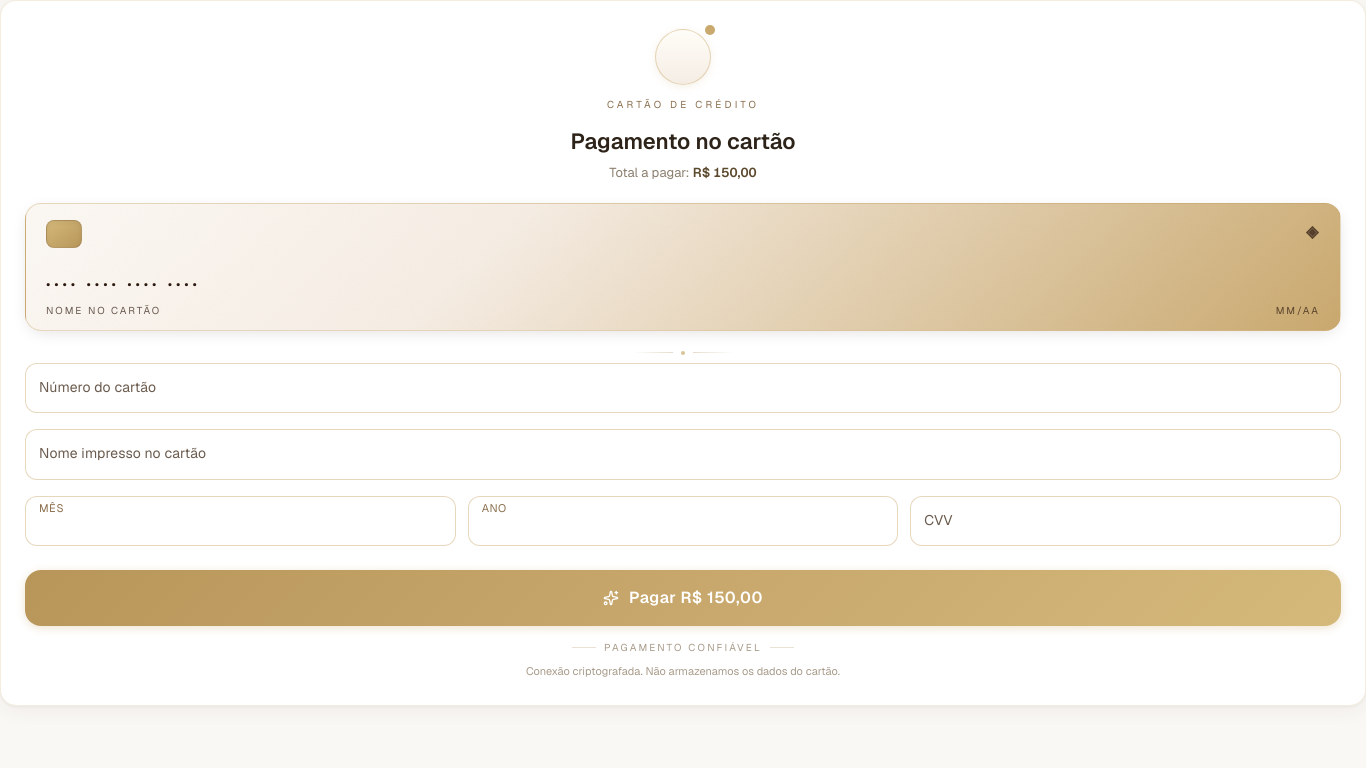
Test: PublicCardCharge › shows declined error when API responds 402
This screenshot has width=1366, height=768.
Step 1. Type "4111111111111111" into the field labelled "Número do cartão" → (683, 388), box [25,363,1341,413]
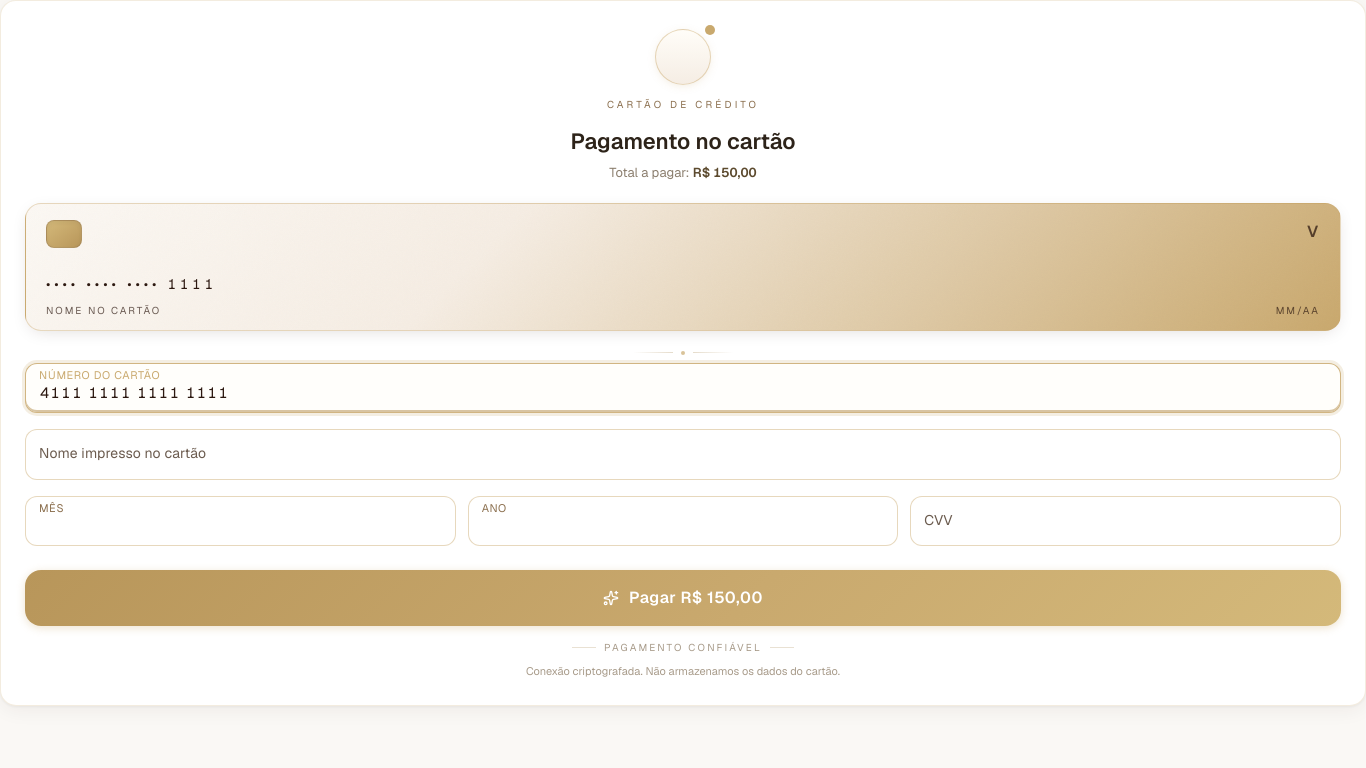
Step 2. Type "MARIA SILVA" into the field labelled "Nome impresso no cartão" → (683, 454), box [25,429,1341,480]
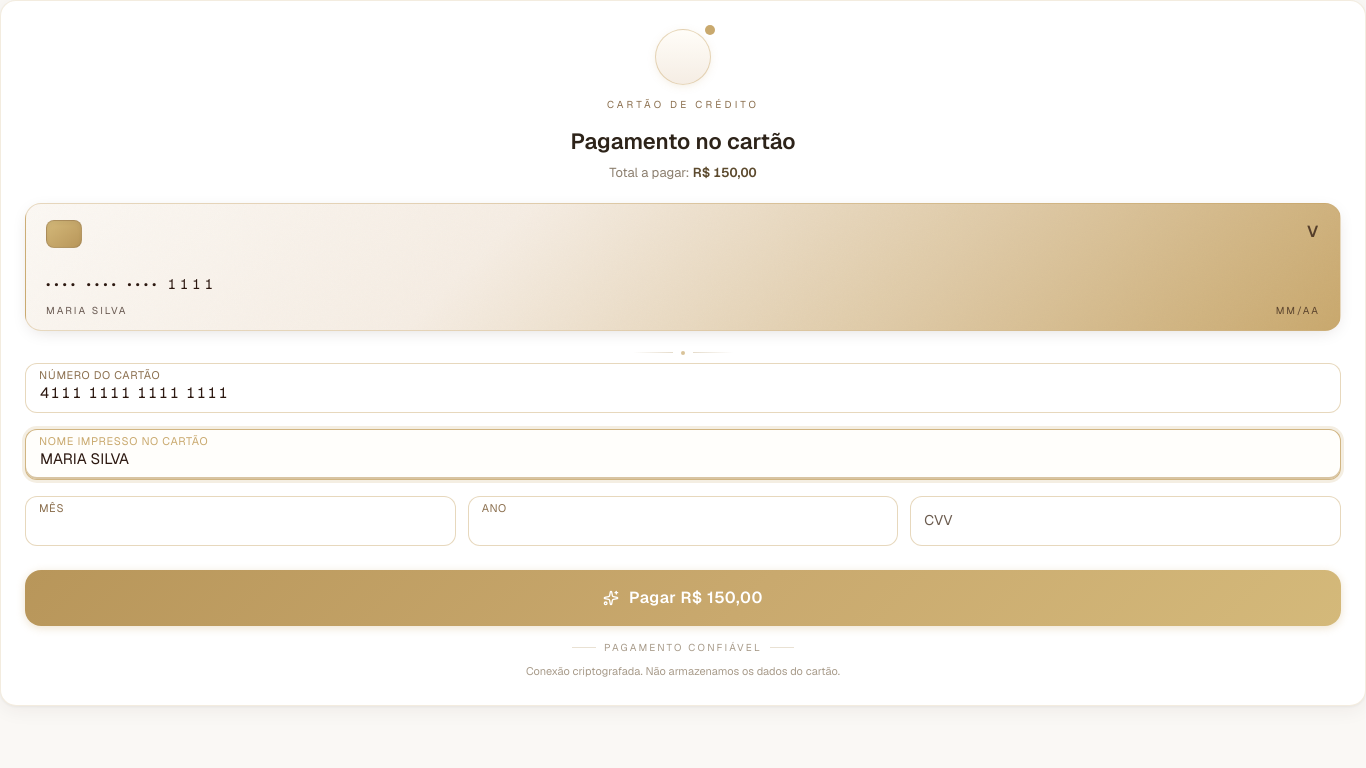
Step 3. Select "12" in the dropdown labelled "Mês" → (240, 521), box [25,496,456,546]
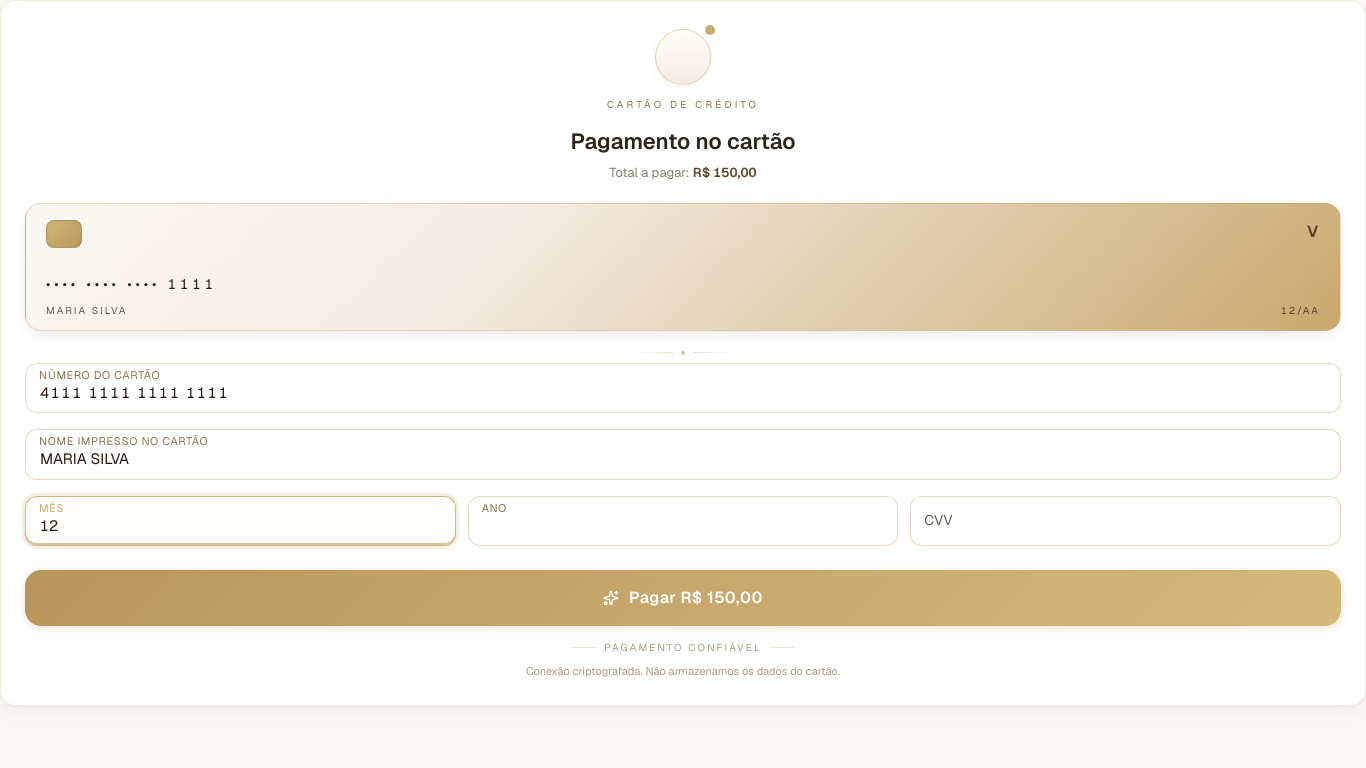
Step 4. Select "2026" in the dropdown labelled "Ano" → (683, 521), box [468,496,898,546]
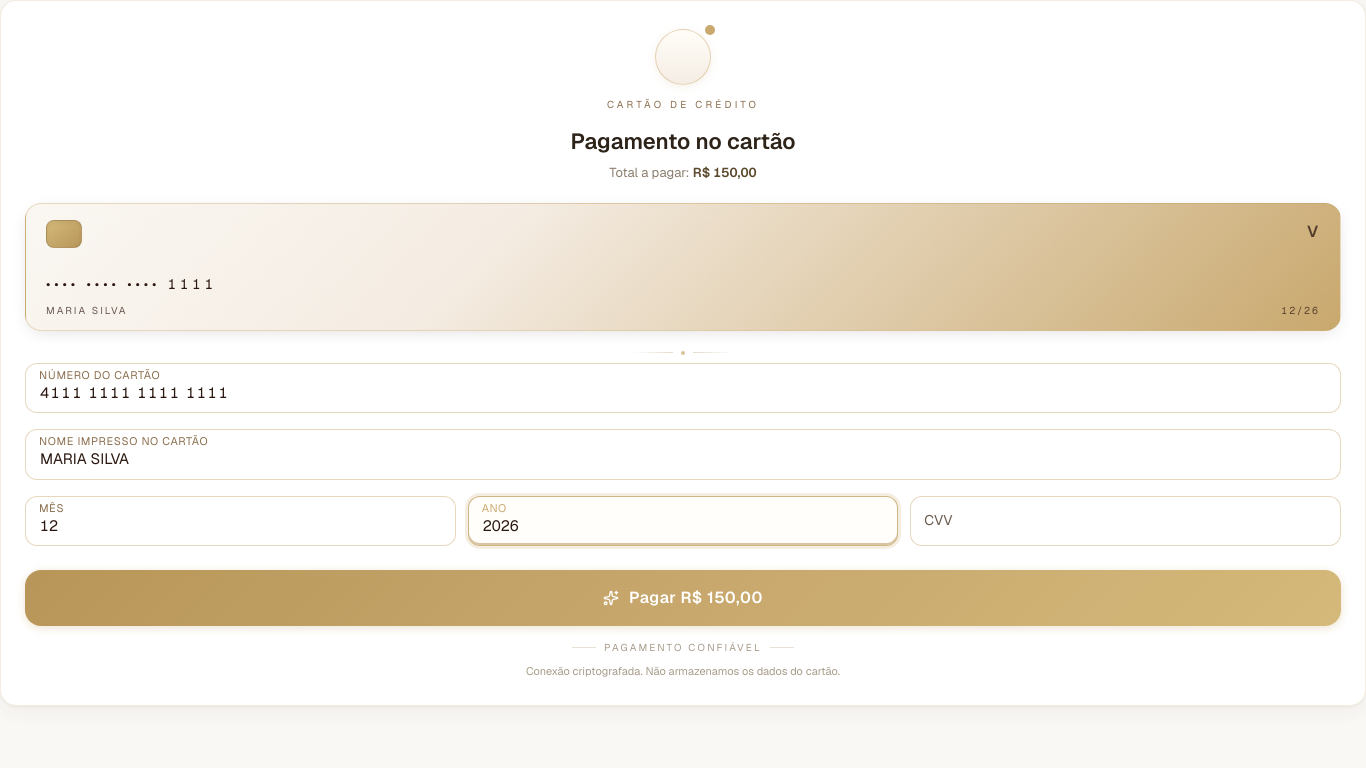
Step 5. Type "123" into the field labelled "CVV" → (1126, 521), box [910,496,1341,546]
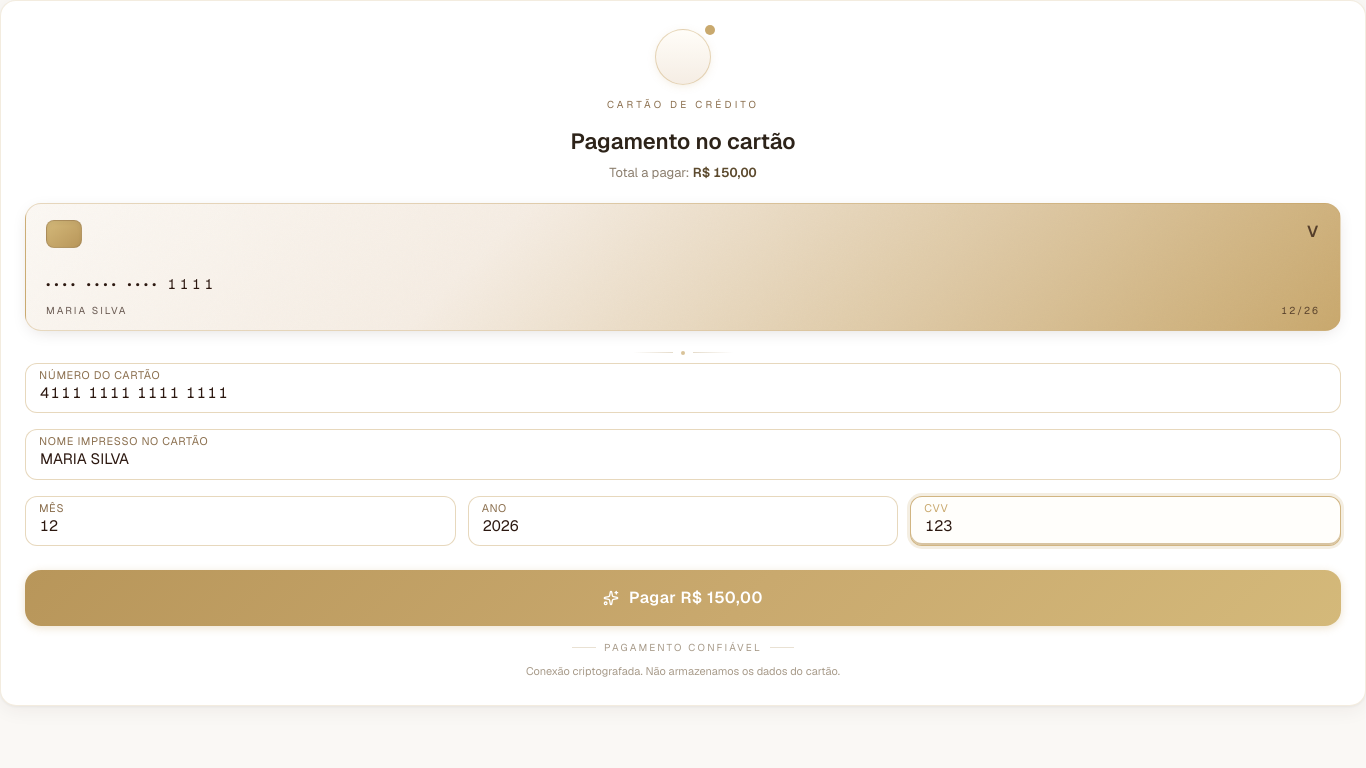
Step 6. Click the button "Pagar R$ 150,00" → click(683, 598), box [25,570,1341,626]
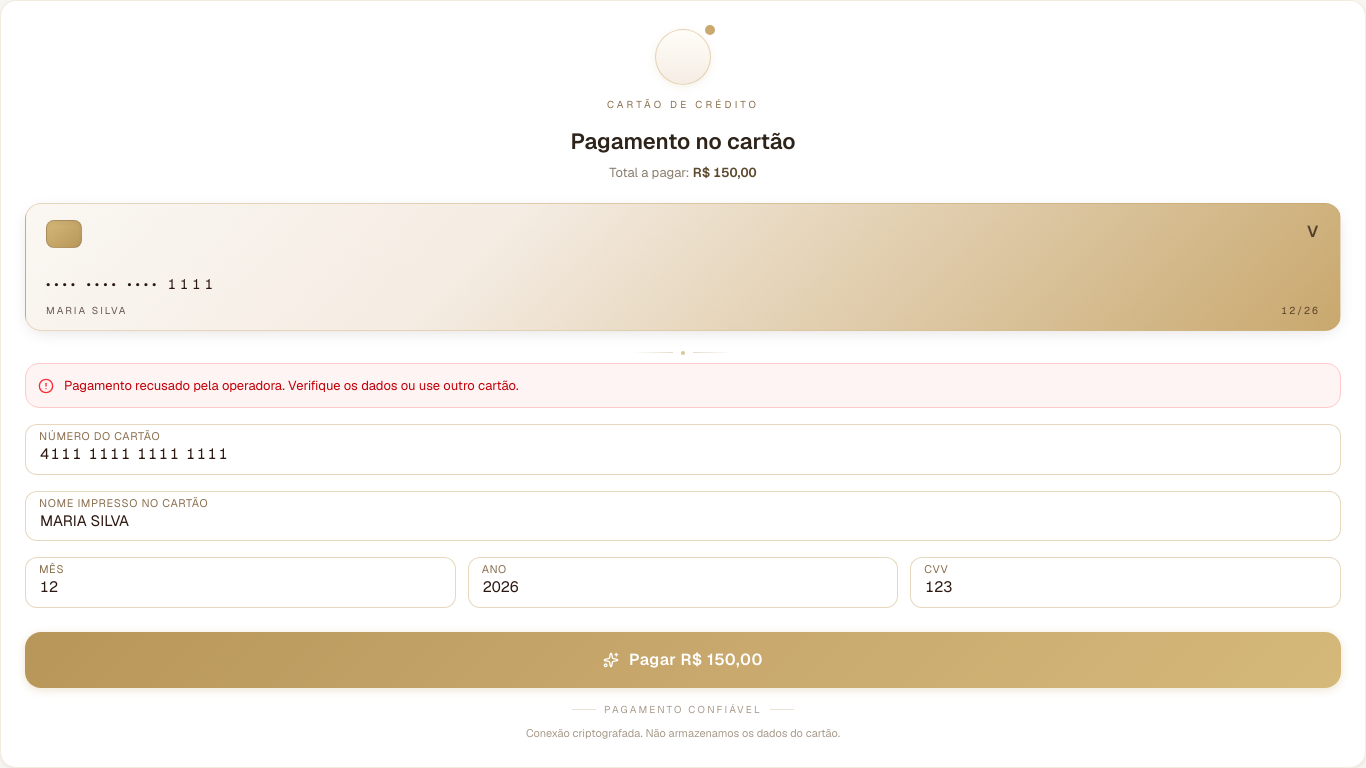
Expected: the message shows "recusad", [64,377,519,394]
